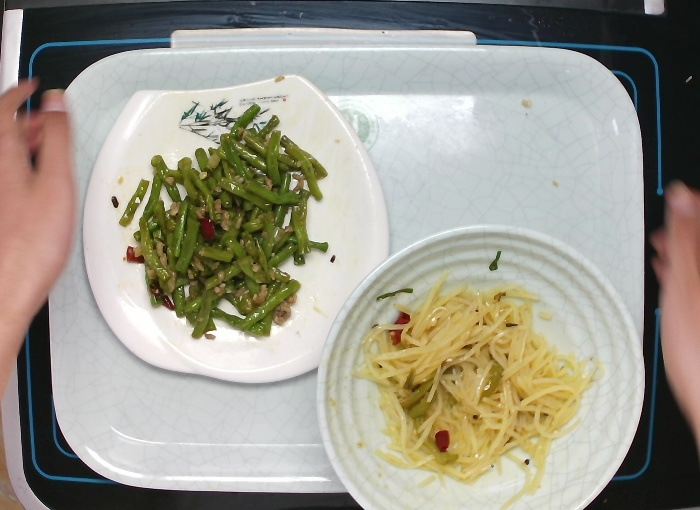JYsf-Da_Tang_Wan: (312, 221, 649, 510)
JYsf-Mian_Pan: (78, 70, 395, 388)
